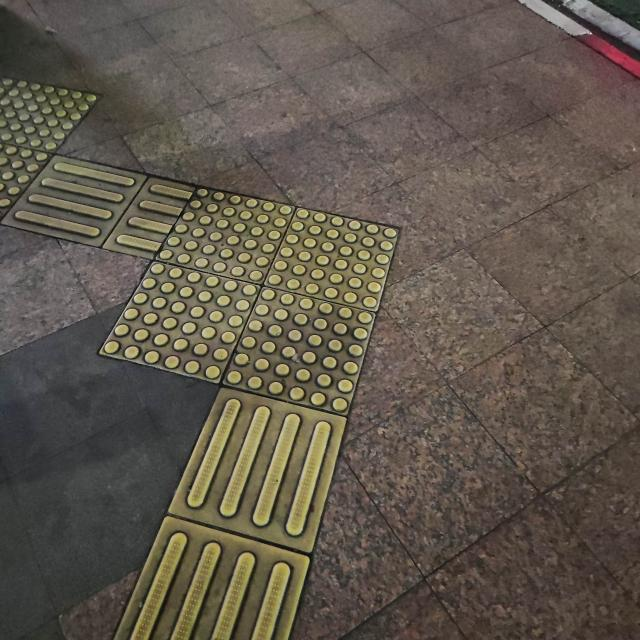kiri: (68, 148, 410, 494)
